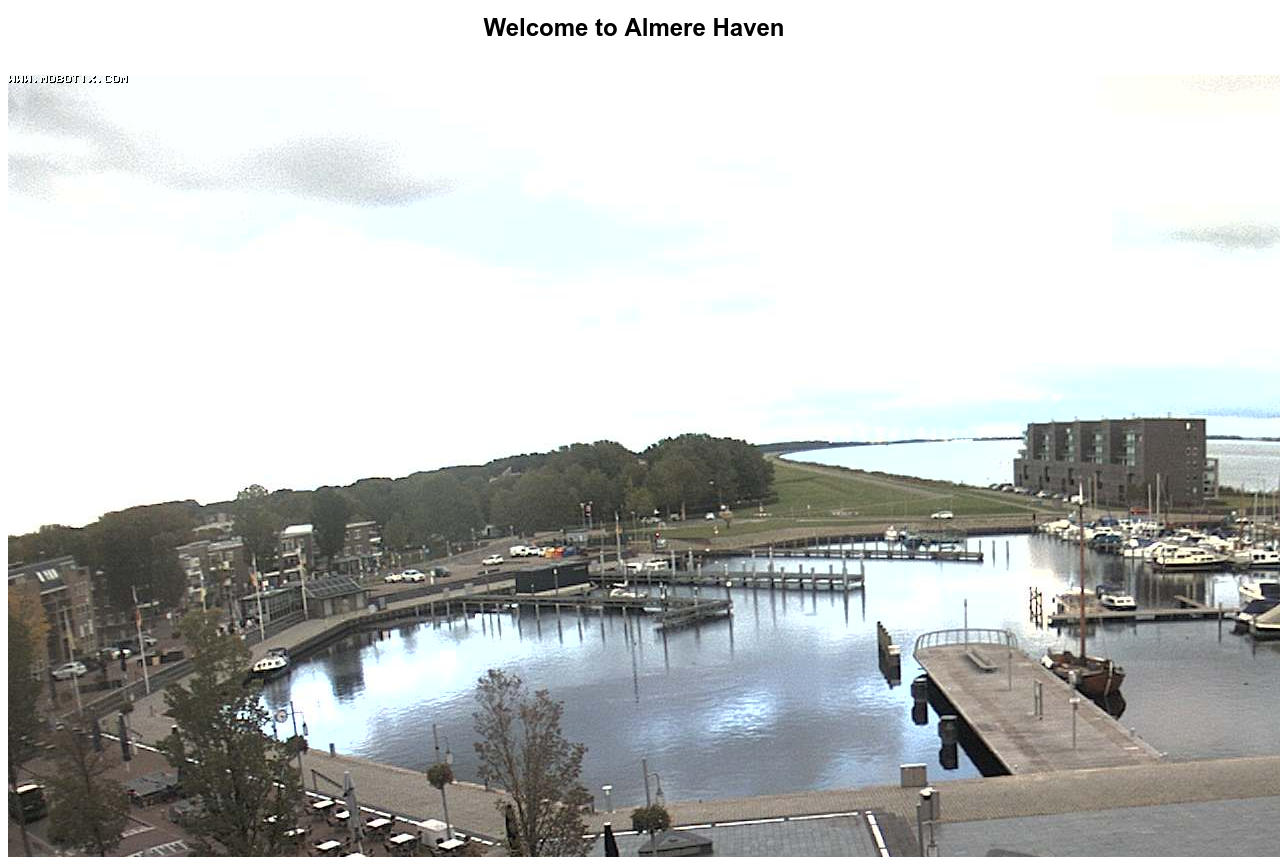no: (59, 606, 77, 650), (195, 563, 210, 598), (247, 552, 260, 585), (294, 542, 308, 572), (133, 592, 143, 627)
